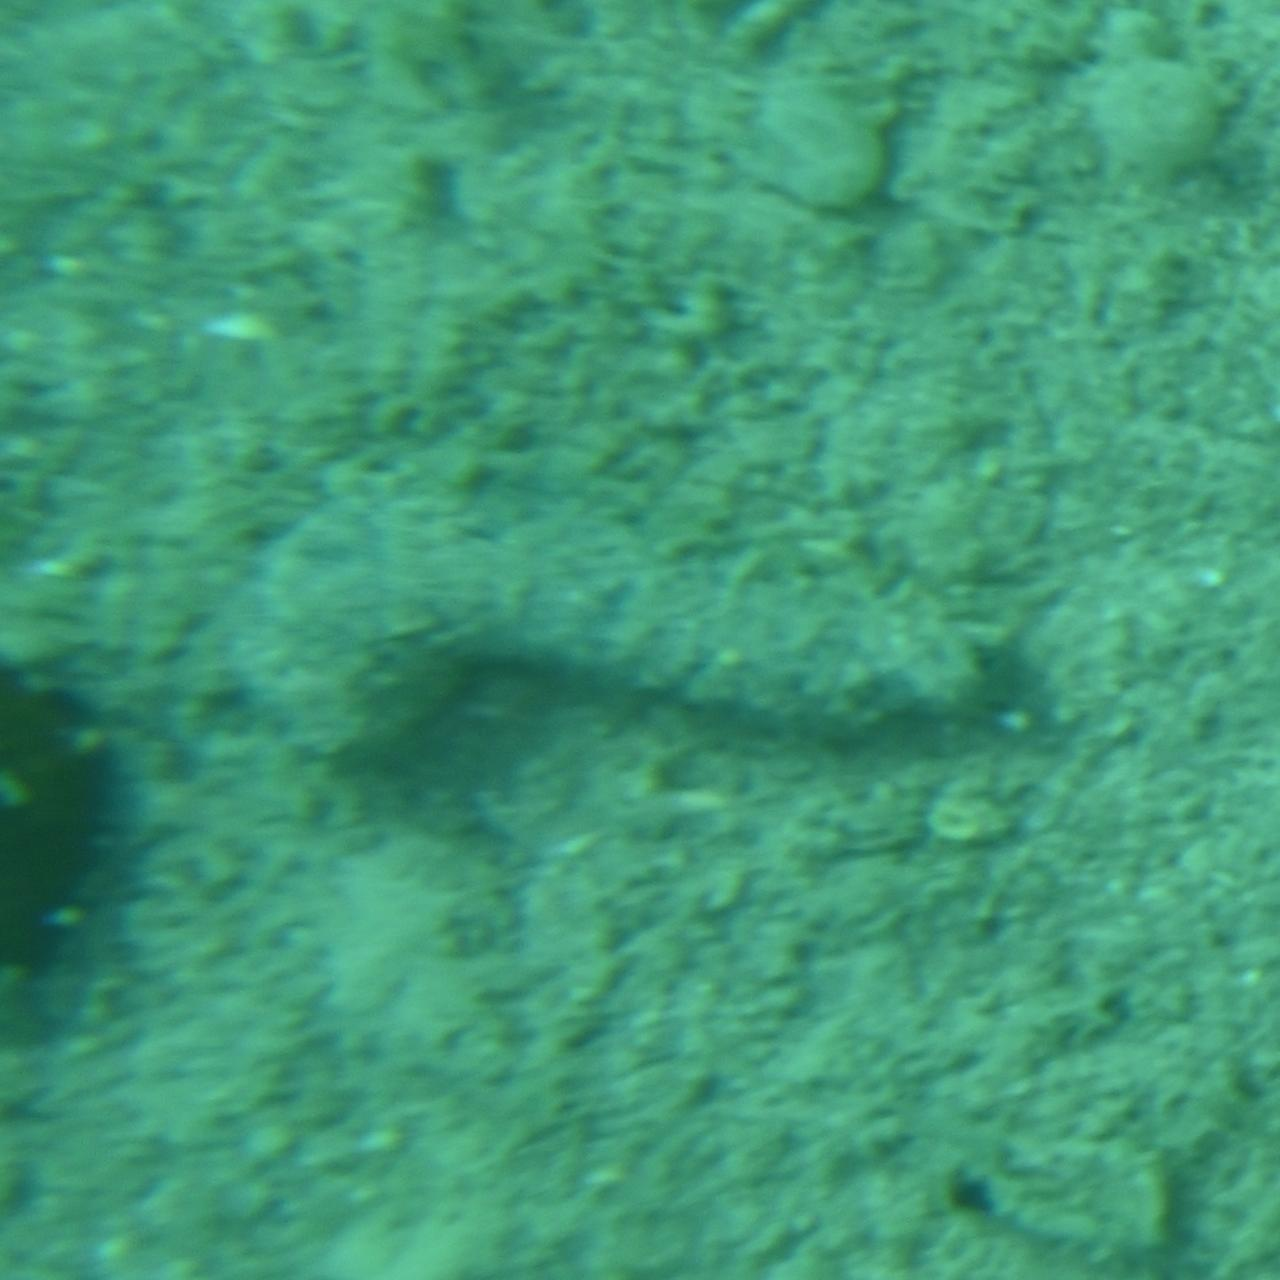Holothuria tubulosa: (219, 497, 999, 783)
